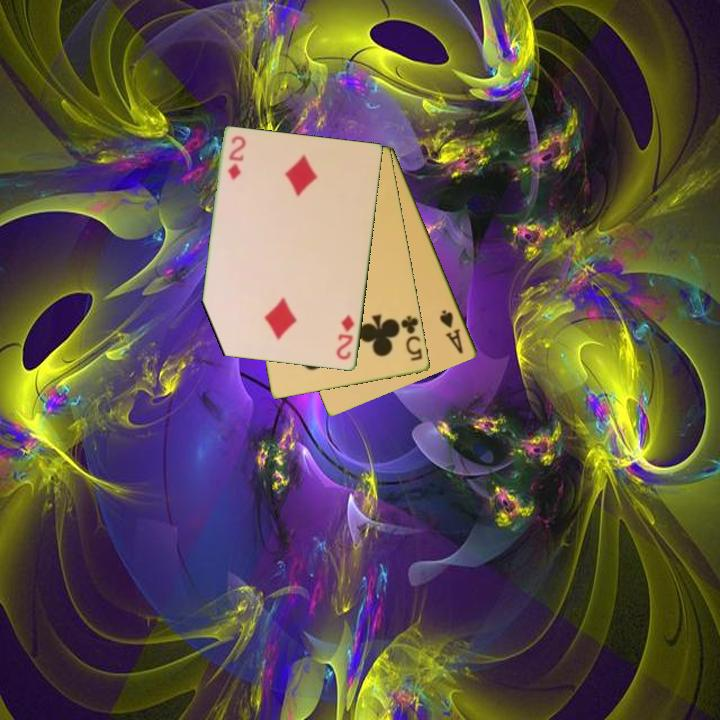2d: (333, 311, 357, 363), (225, 132, 248, 183)
5c: (395, 312, 426, 364)
As: (436, 306, 466, 357)
